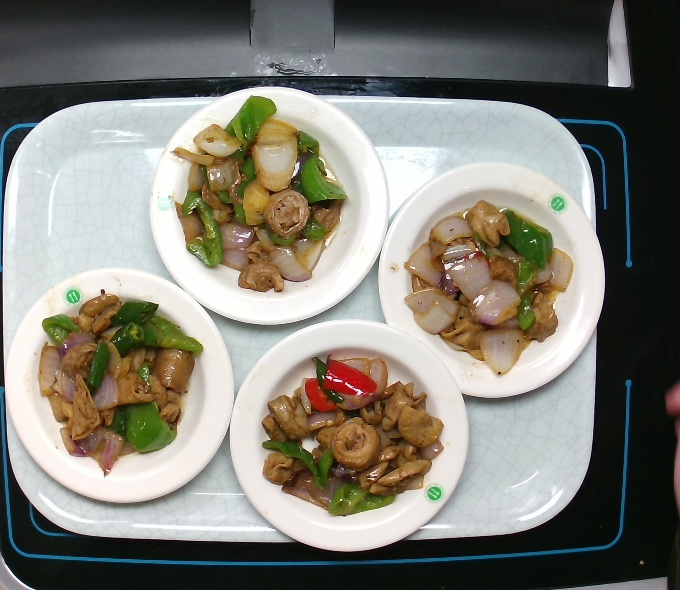wcq-QingJiaoChaoDaChang: (163, 92, 356, 298), (250, 330, 446, 522), (29, 291, 217, 486), (391, 185, 579, 380)
